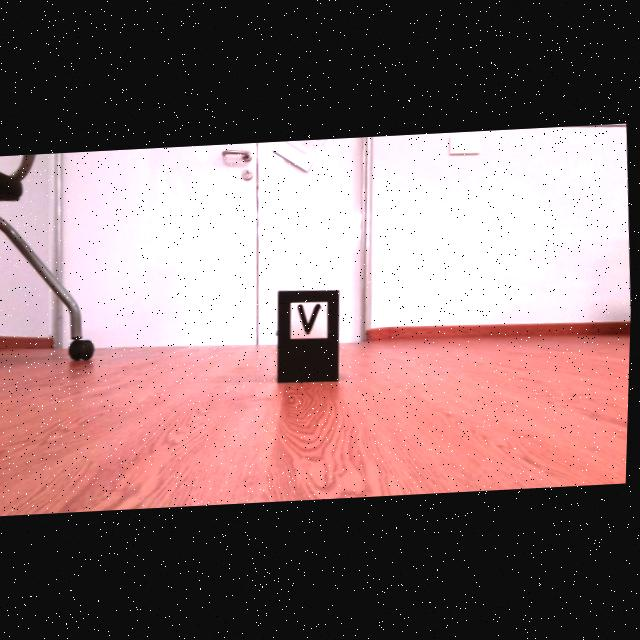V: (300, 305, 322, 333)
